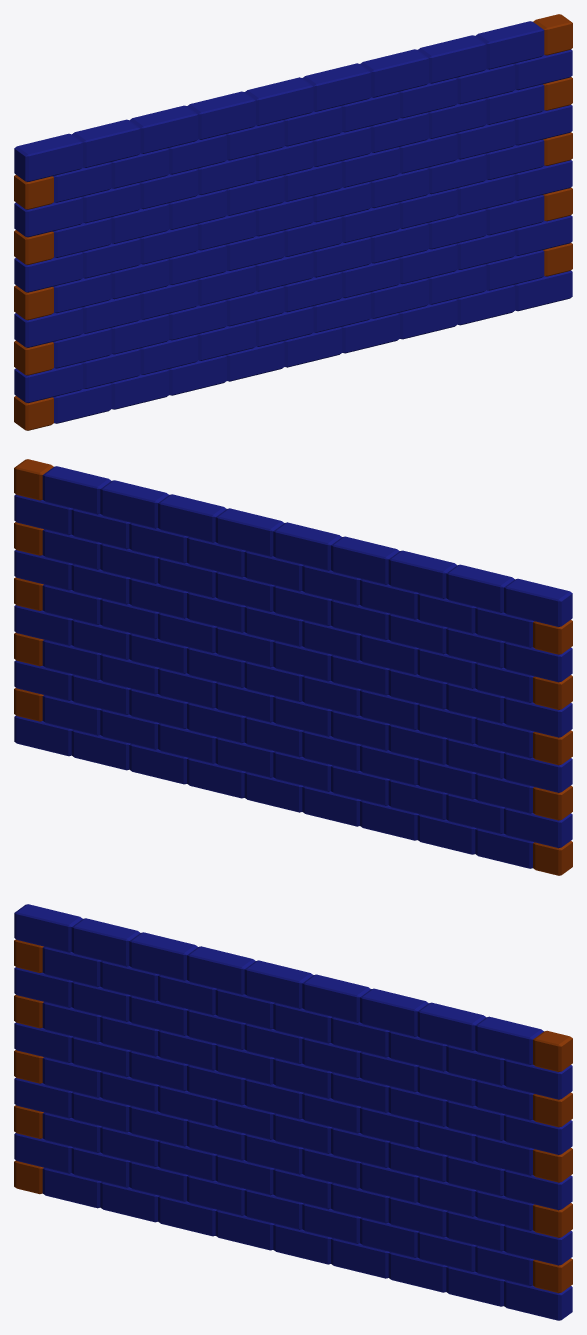
File: walls.fbx
The picture shows the model from 3 angles, top to bottom: view 1: azimuth 30°, elevation 25°; view 2: azimuth 150°, elevation 25°; view 3: azimuth 330°, elevation 25°; orthographic projection.
Visible parts, largest first — view 1: Cube.020; view 2: Cube.020; view 3: Cube.020.
Boxes of the visible parts, bbox=[...] form: Cube.020: bbox=[14, 14, 572, 430]; Cube.020: bbox=[14, 459, 572, 875]; Cube.020: bbox=[14, 904, 572, 1320].
Bounding box in the file's own units: 1901 × 916 × 74.87.
